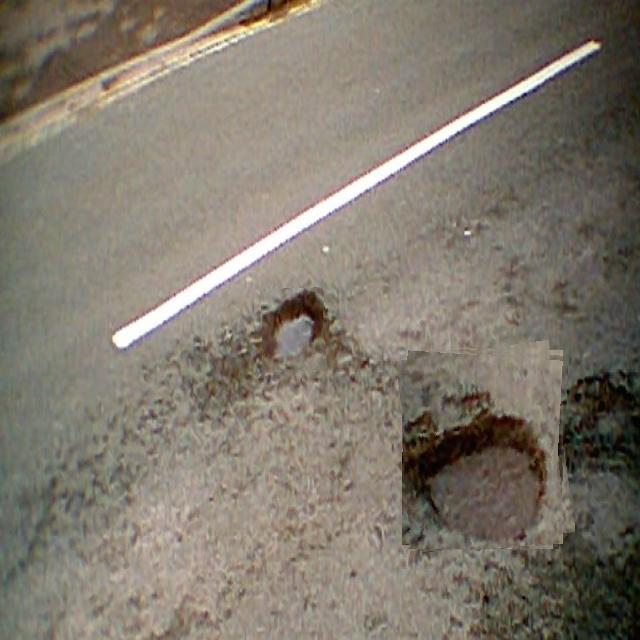Pothole: (402, 345, 569, 549), (262, 288, 325, 372)
